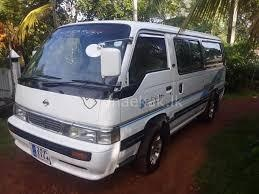van: (8, 17, 229, 173)
